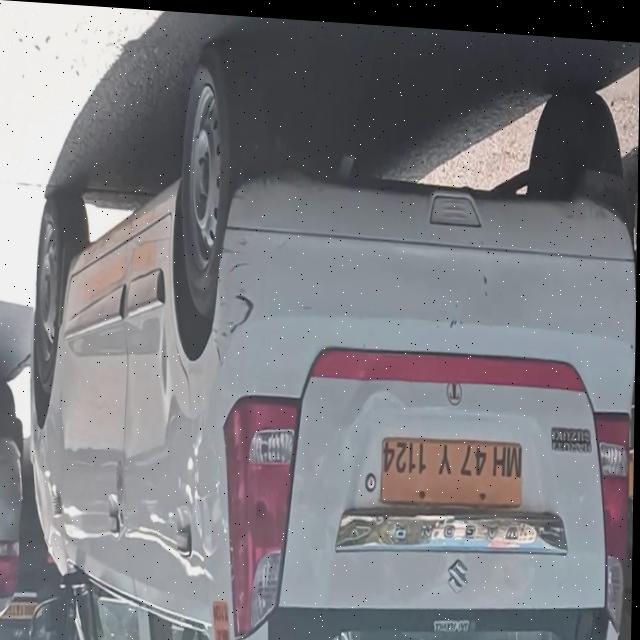plate: (380, 427, 525, 505)
